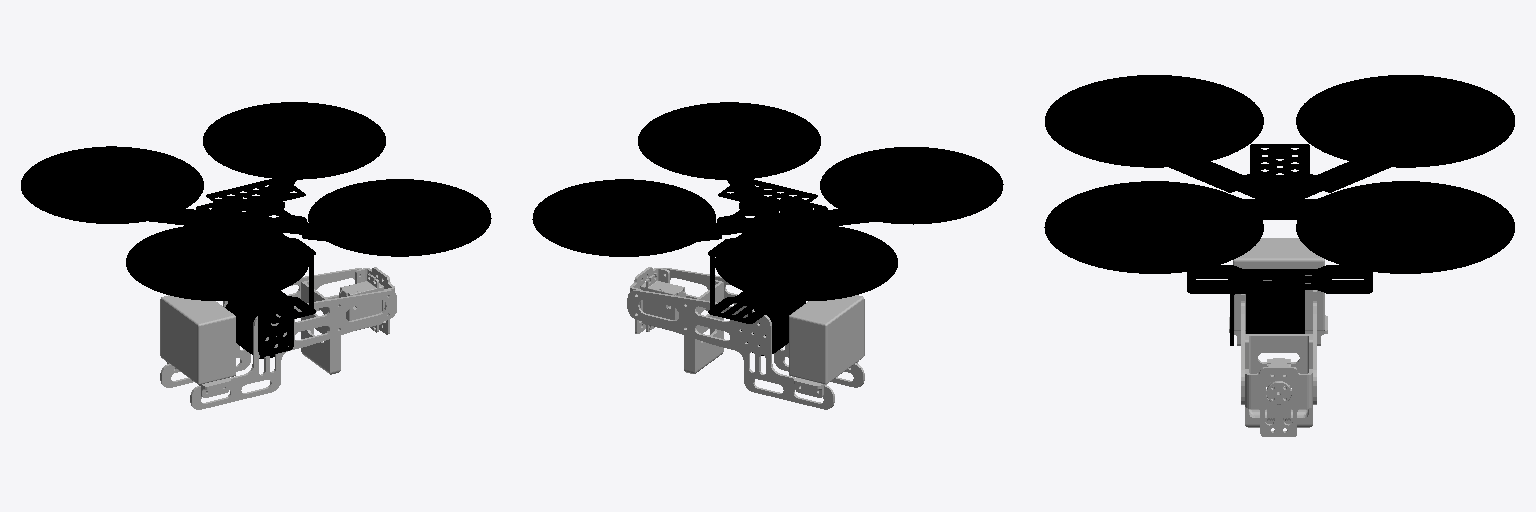
URDF robot description (drone_urdf):
<?xml version="1.0" encoding="utf-8"?>
<!-- This URDF was automatically created by SolidWorks to URDF Exporter! Originally created by Stephen Brawner (brawner@gmail.com) 
     Commit Version: 1.6.0-4-g7f85cfe  Build Version: 1.6.7995.38578
     For more information, please see http://wiki.ros.org/sw_urdf_exporter -->
<robot
  name="drone_urdf">
  <link
    name="base_link">
    <inertial>
      <origin
        xyz="4.44064777294379E-16 -0.000401990618332168 8.22865101984521E-05"
        rpy="0 0 0" />
      <mass
        value="0.591785001312432" />
      <inertia
        ixx="0.000687815779136722"
        ixy="-8.71674991811453E-21"
        ixz="1.25469355670433E-20"
        iyy="0.000643842412936961"
        iyz="-3.22751861290967E-07"
        izz="0.00128478539822991" />
    </inertial>
    <visual>
      <origin
        xyz="0 0 0"
        rpy="0 0 0" />
      <geometry>
        <mesh
          filename="package://drone_urdf/meshes/base_link.STL" />
      </geometry>
      <material
        name="">
        <color
          rgba="0 0 0 1" />
      </material>
    </visual>
    <collision>
      <origin
        xyz="0 0 0"
        rpy="0 0 0" />
      <geometry>
        <mesh
          filename="package://drone_urdf/meshes/base_link.STL" />
      </geometry>
    </collision>
  </link>
  <link
    name="arm_link_pitch">
    <inertial>
      <origin
        xyz="-0.0276787855574874 0.00911709077232517 -0.00558440238980157"
        rpy="0 0 0" />
      <mass
        value="0.30558860051562" />
      <inertia
        ixx="0.000231244291658992"
        ixy="-4.93019763166128E-11"
        ixz="-3.31311957583298E-05"
        iyy="0.000281877615548305"
        iyz="8.74123284876137E-11"
        izz="0.000279381833421019" />
    </inertial>
    <visual>
      <origin
        xyz="0 0 0"
        rpy="0 0 0" />
      <geometry>
        <mesh
          filename="package://drone_urdf/meshes/arm_link_pitch.STL" />
      </geometry>
      <material
        name="">
        <color
          rgba="0.752941176470588 0.752941176470588 0.752941176470588 1" />
      </material>
    </visual>
    <collision>
      <origin
        xyz="0 0 0"
        rpy="0 0 0" />
      <geometry>
        <mesh
          filename="package://drone_urdf/meshes/arm_link_pitch.STL" />
      </geometry>
    </collision>
  </link>
  <joint
    name="arm_joint_pitch"
    type="continuous">
    <origin
      xyz="0 -0.00999999999999984 -0.106564971157456"
      rpy="0 0 0" />
    <parent
      link="base_link" />
    <child
      link="arm_link_pitch" />
    <axis
      xyz="0 -1 0" />
  </joint>
  <link
    name="arm_link_roll">
    <inertial>
      <origin
        xyz="-0.00169789176912286 -3.06699110552699E-15 -2.2065682614425E-15"
        rpy="0 0 0" />
      <mass
        value="0.000875819041355565" />
      <inertia
        ixx="4.34940605661605E-08"
        ixy="-2.94154456660538E-21"
        ixz="7.19733619713644E-21"
        iyy="2.28167020876951E-08"
        iyz="8.25355105256281E-23"
        izz="2.28167020877078E-08" />
    </inertial>
    <visual>
      <origin
        xyz="0 0 0"
        rpy="0 0 0" />
      <geometry>
        <mesh
          filename="package://drone_urdf/meshes/arm_link_roll.STL" />
      </geometry>
      <material
        name="">
        <color
          rgba="0.752941176470588 0.752941176470588 0.752941176470588 1" />
      </material>
    </visual>
    <collision>
      <origin
        xyz="0 0 0"
        rpy="0 0 0" />
      <geometry>
        <mesh
          filename="package://drone_urdf/meshes/arm_link_roll.STL" />
      </geometry>
    </collision>
  </link>
  <joint
    name="arm_joint_roll"
    type="continuous">
    <origin
      xyz="0.14395 0.00910000000000061 0"
      rpy="0 0 0" />
    <parent
      link="arm_link_pitch" />
    <child
      link="arm_link_roll" />
    <axis
      xyz="-1 0 0" />
  </joint>
</robot>

--- Facts derived from the render (not from the file) ---
The picture shows the robot from 3 angles, left to right: view 1: azimuth 30°, elevation 25°; view 2: azimuth 150°, elevation 25°; view 3: azimuth 270°, elevation 25°; orthographic projection.
Robot: drone_urdf — 3 links, 2 joints (2 continuous); root link base_link; default pose: all joints at 0.
Links seen in each view (by area): view 1: base_link, arm_link_pitch; view 2: base_link, arm_link_pitch; view 3: base_link, arm_link_pitch.
Boxes of the visible links, x1=… form: base_link: x1=21, y1=102, x2=491, y2=358; arm_link_pitch: x1=160, y1=267, x2=396, y2=409; base_link: x1=532, y1=102, x2=1003, y2=355; arm_link_pitch: x1=627, y1=267, x2=864, y2=409; base_link: x1=1044, y1=75, x2=1514, y2=345; arm_link_pitch: x1=1229, y1=238, x2=1327, y2=436.
Bounding box of the posed robot: 0.3814 × 0.3814 × 0.2026 m (x, y, z).
3 mesh visuals loaded from 3 distinct referenced files (3 binary STL).
